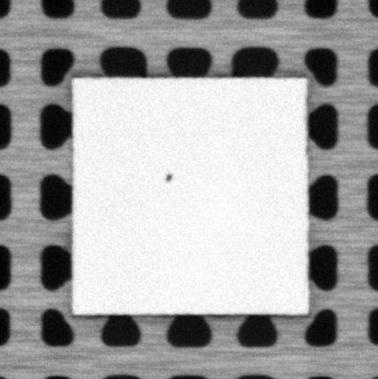DIE_INK: (162, 170, 174, 183)
